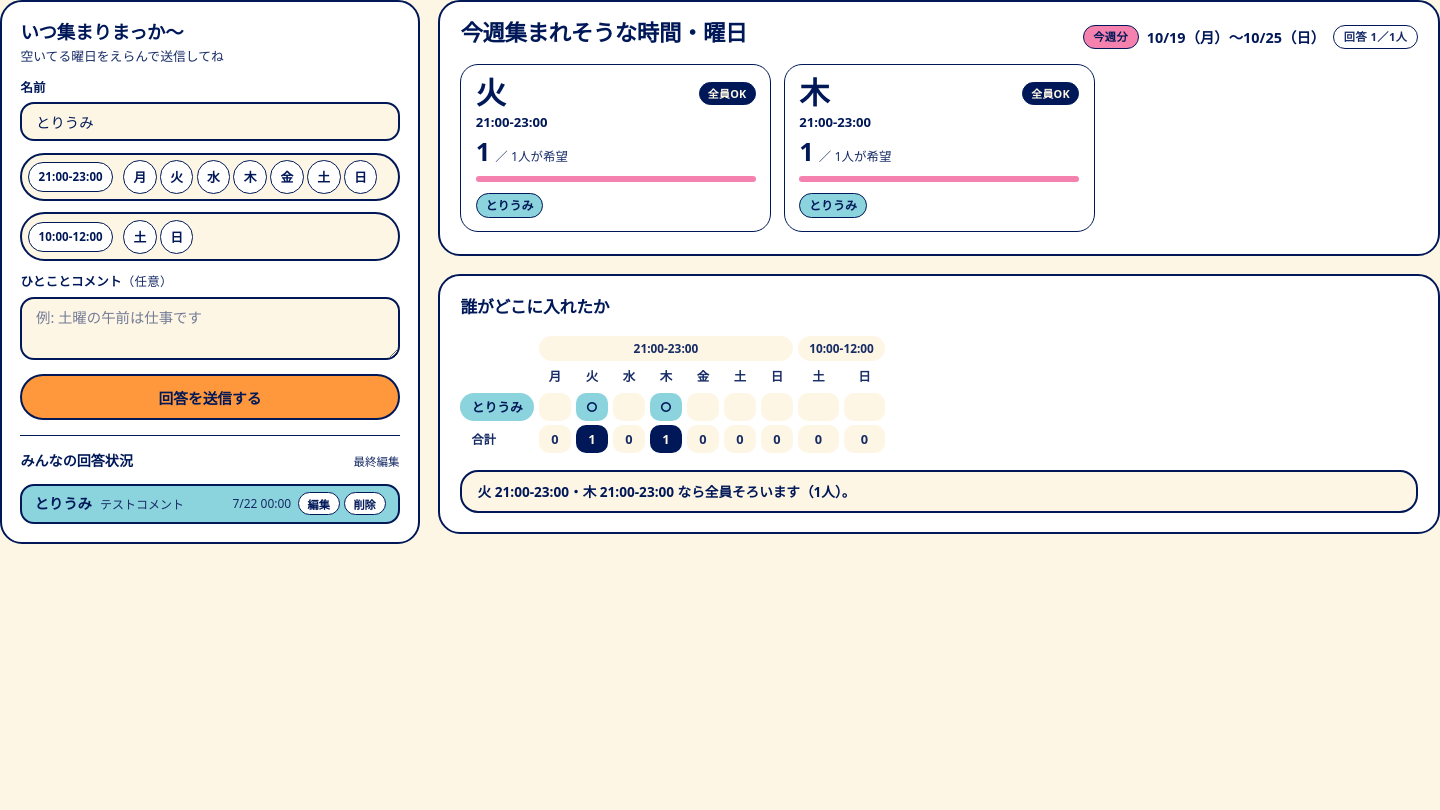
Test: MatrixPageClient: 編集フロー › キャンセルボタンで新規入力モードに戻る
Click the button "編集": (319, 504) top-left (298, 492), bottom-right (340, 515)
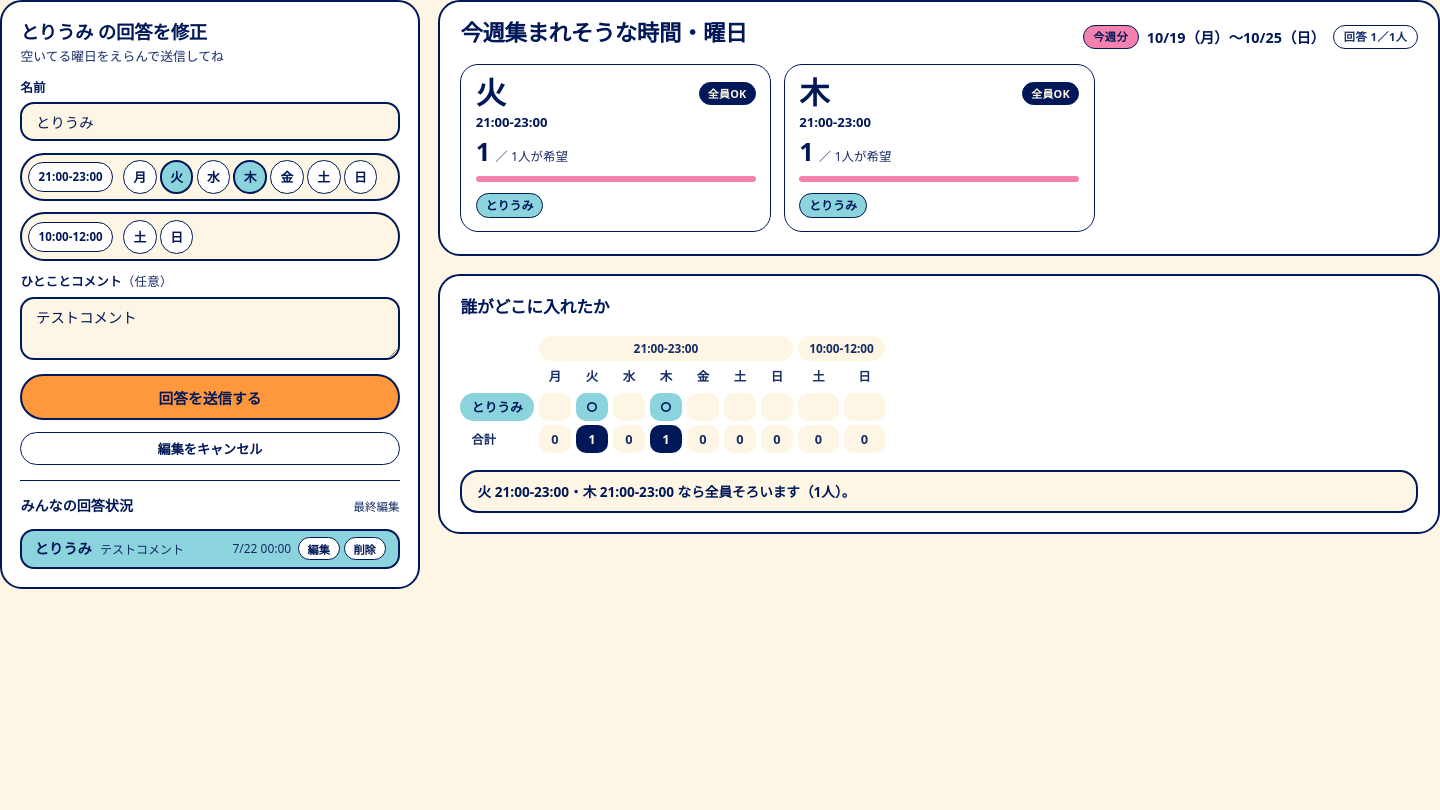
Check: the field labelled "名前" holds "とりうみ", box top-left (20, 102), bottom-right (400, 141)
Click the button "編集をキャンセル": (210, 448) top-left (20, 432), bottom-right (400, 465)
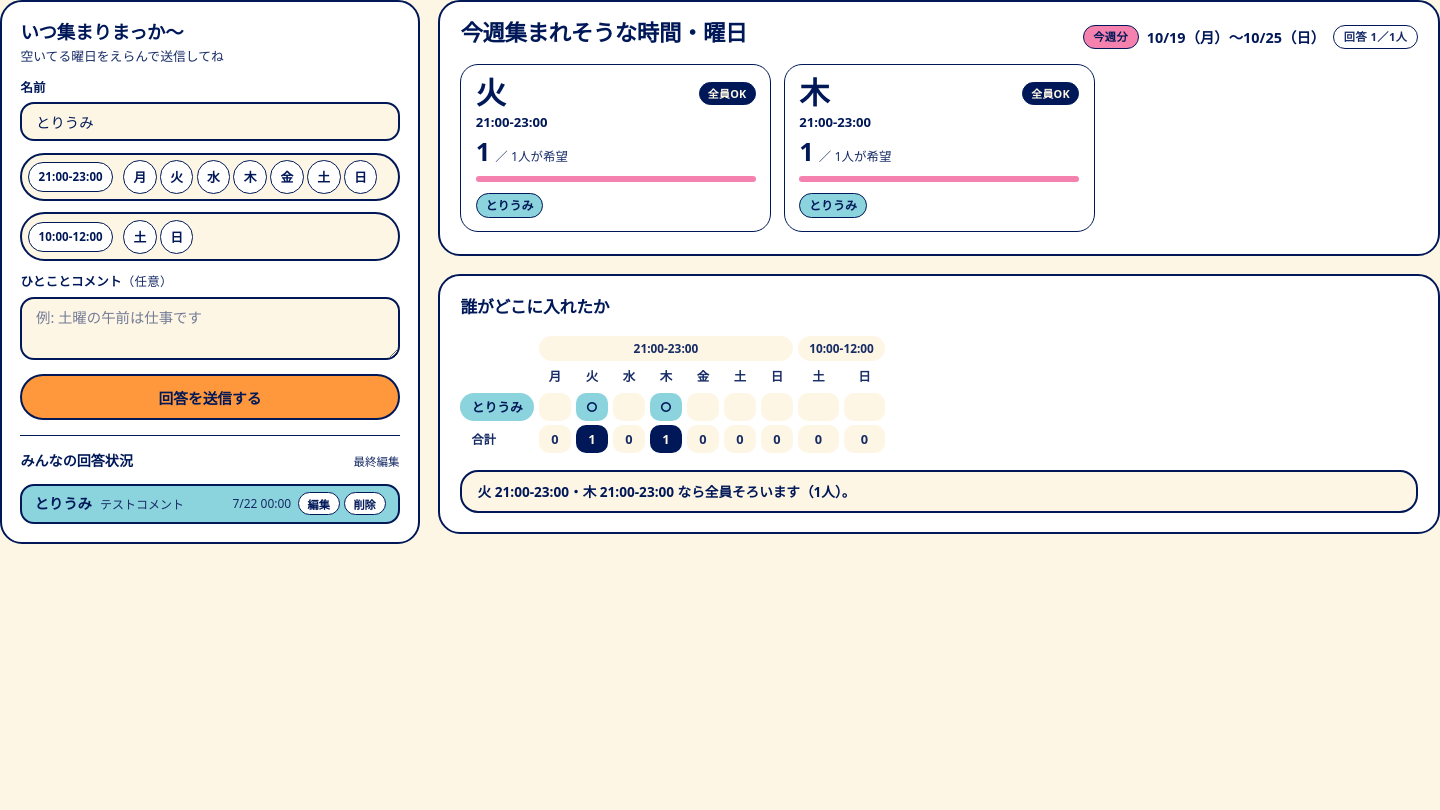
Check: the field labelled "名前" holds "とりうみ", box top-left (20, 102), bottom-right (400, 141)
Check: the text box labelled "ひとことコメント（任意）" is empty, box top-left (20, 297), bottom-right (400, 360)
Check: the button "編集をキャンセル" is gone
